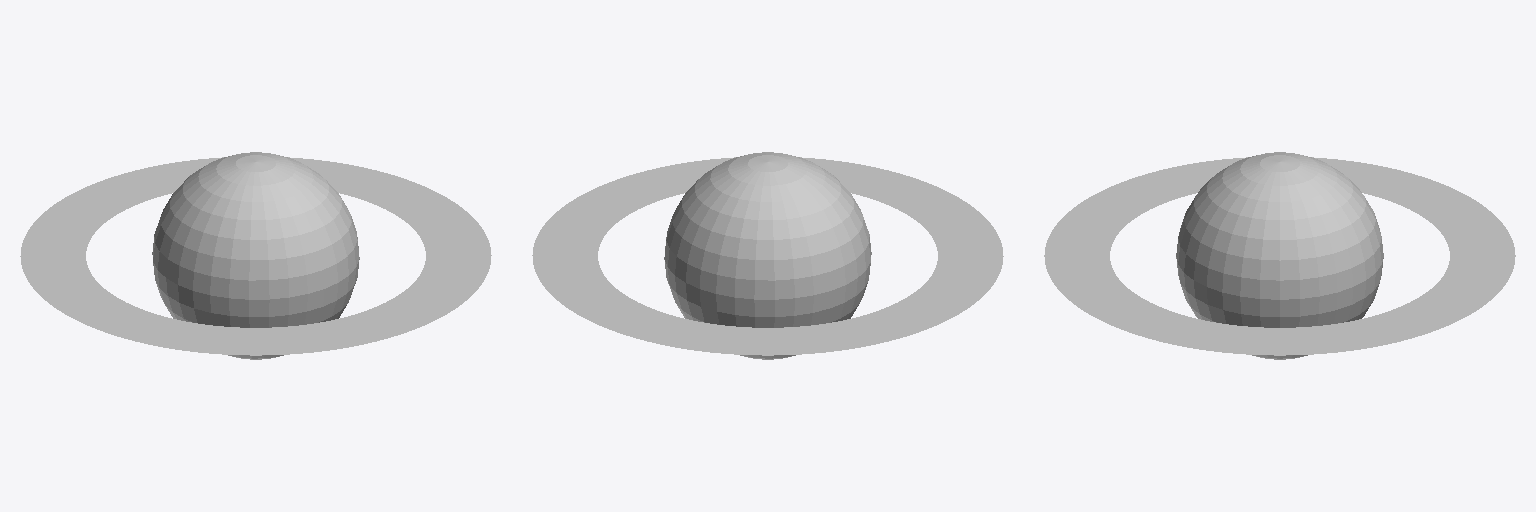
Rendered from Saturno.obj.
3 views of the same model, side by side, from view 1: azimuth 30°, elevation 25°; view 2: azimuth 150°, elevation 25°; view 3: azimuth 270°, elevation 25° (orthographic).
Parts seen in each view (by area): view 1: Círculo, Esfera; view 2: Círculo, Esfera; view 3: Círculo, Esfera.
Boxes of the visible parts, <box> form: Círculo: <box>20,157,491,355</box>; Esfera: <box>152,152,359,359</box>; Círculo: <box>532,157,1003,355</box>; Esfera: <box>664,152,871,359</box>; Círculo: <box>1044,157,1515,355</box>; Esfera: <box>1176,152,1383,359</box>.
Size of the model in its own units: 3.53 by 1.56 by 3.53.